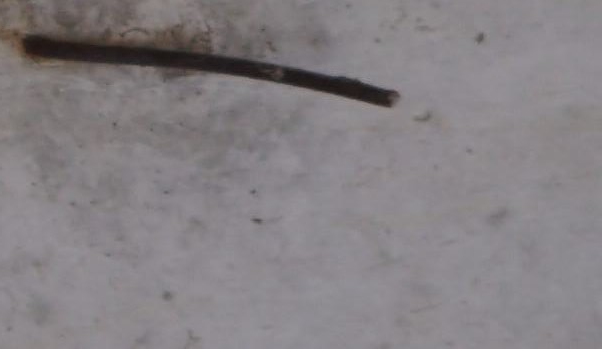Exposed reinforcement: (21, 32, 402, 109)
